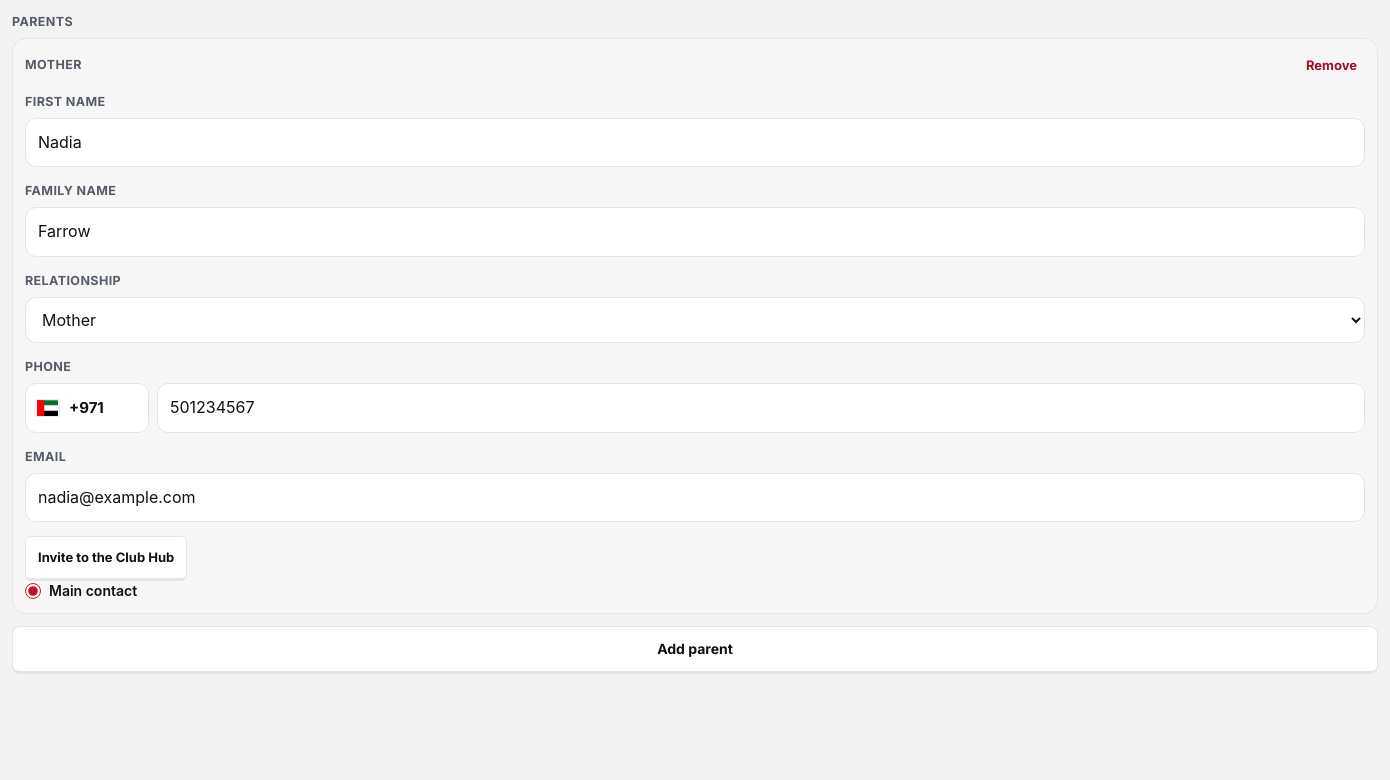
it: sending one › shows the accept link as well as saying the email went
Click the button with aria-label "Invite Nadia Farrow" at (106, 559), box 25,536 -> 187,581
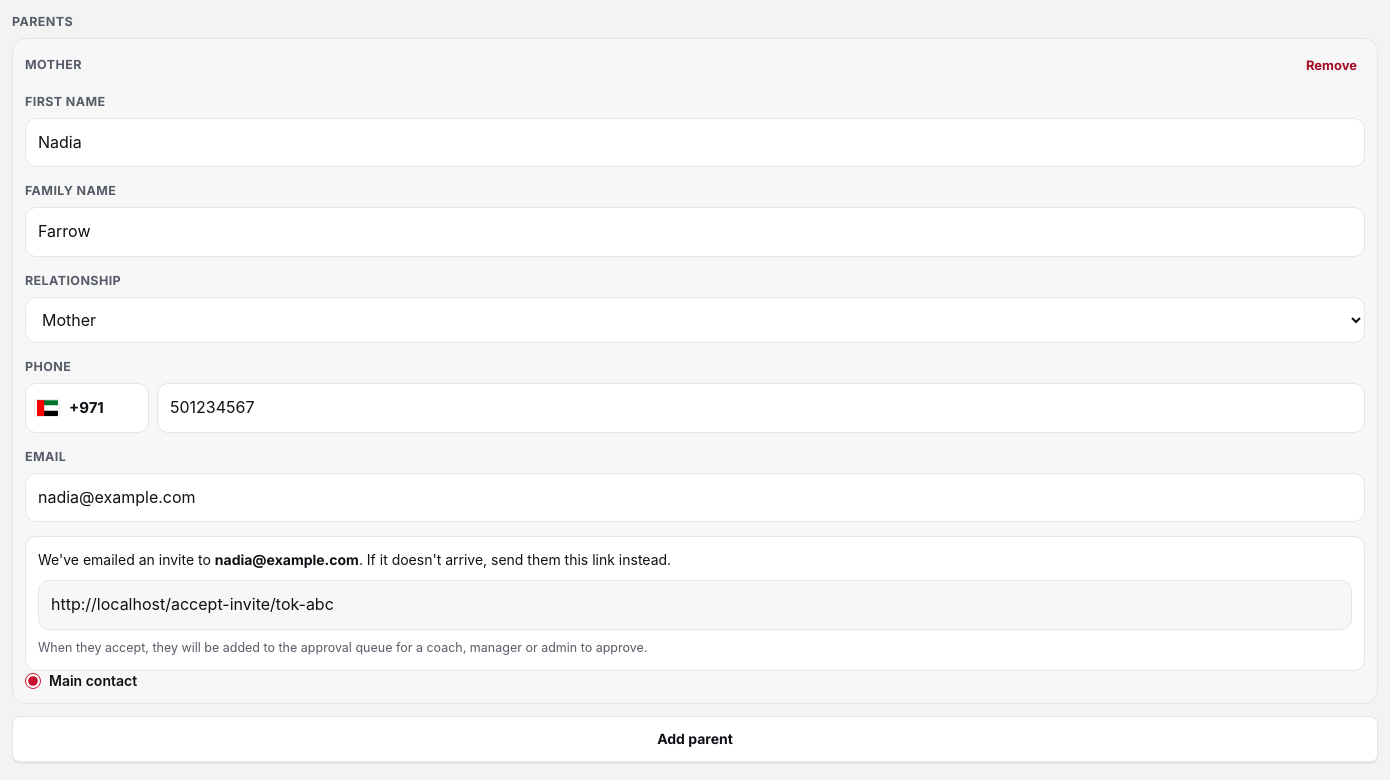
Now the text "We've emailed an invite" is shown, box 38,551 -> 215,568
